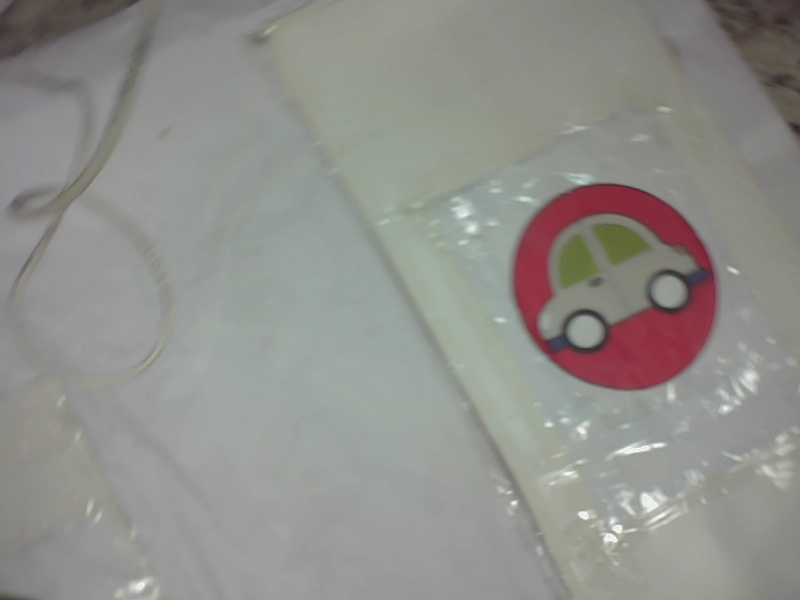areaC: (503, 173, 733, 400)
